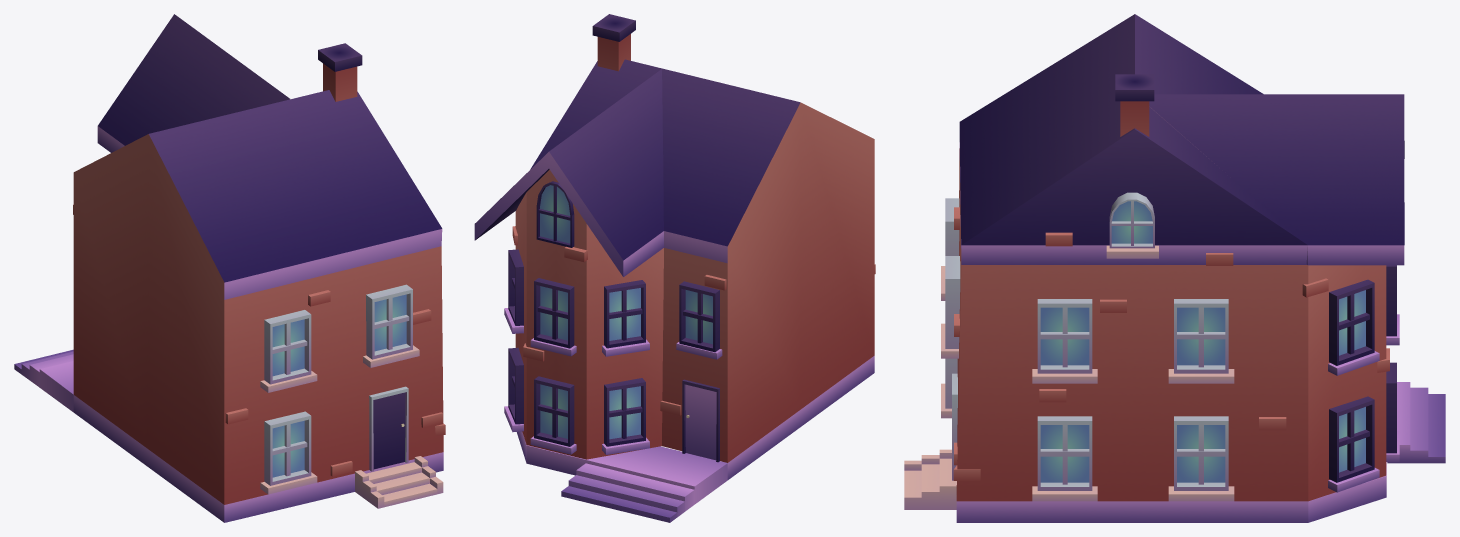
File: SM_House_L_02.fbx
3 renders of one model, left to right at view 1: azimuth 30°, elevation 25°; view 2: azimuth 150°, elevation 25°; view 3: azimuth 270°, elevation 25°, orthographic. The views are drawn at different scales.
Visible parts, largest first — view 1: SM_House_L_02; view 2: SM_House_L_02; view 3: SM_House_L_02.
Boxes of the visible parts, x1,y1,x2,y2 form: SM_House_L_02: (14, 14, 445, 522); SM_House_L_02: (474, 14, 875, 522); SM_House_L_02: (904, 14, 1445, 522).
Bounding box in the file's own units: 6.99 × 12.22 × 10.61.
